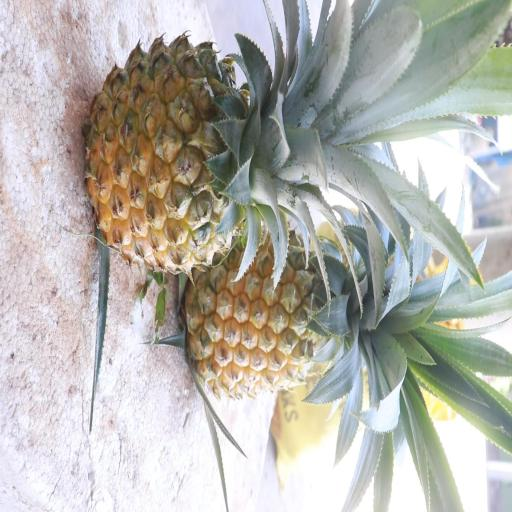Pineapple - v8 v1: (80, 28, 330, 283), (180, 215, 392, 407)
